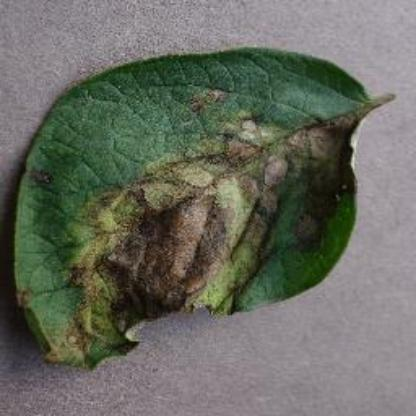Late-Blight: (18, 29, 378, 405)
